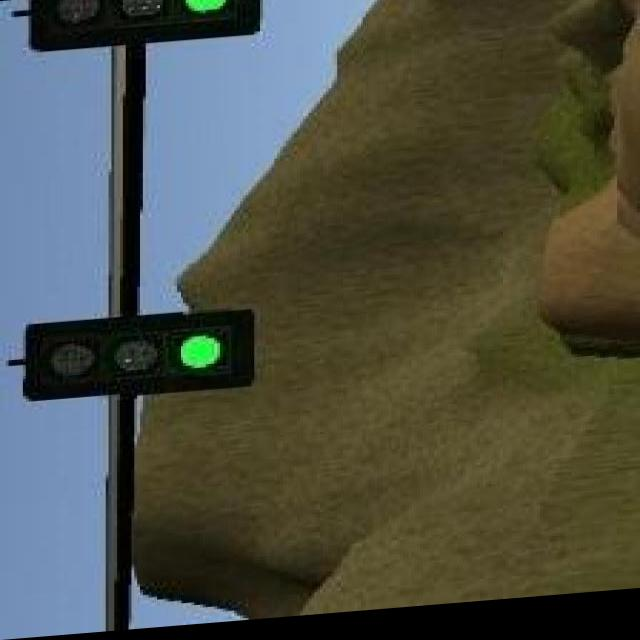green light: (29, 315, 255, 395), (26, 0, 263, 53)
